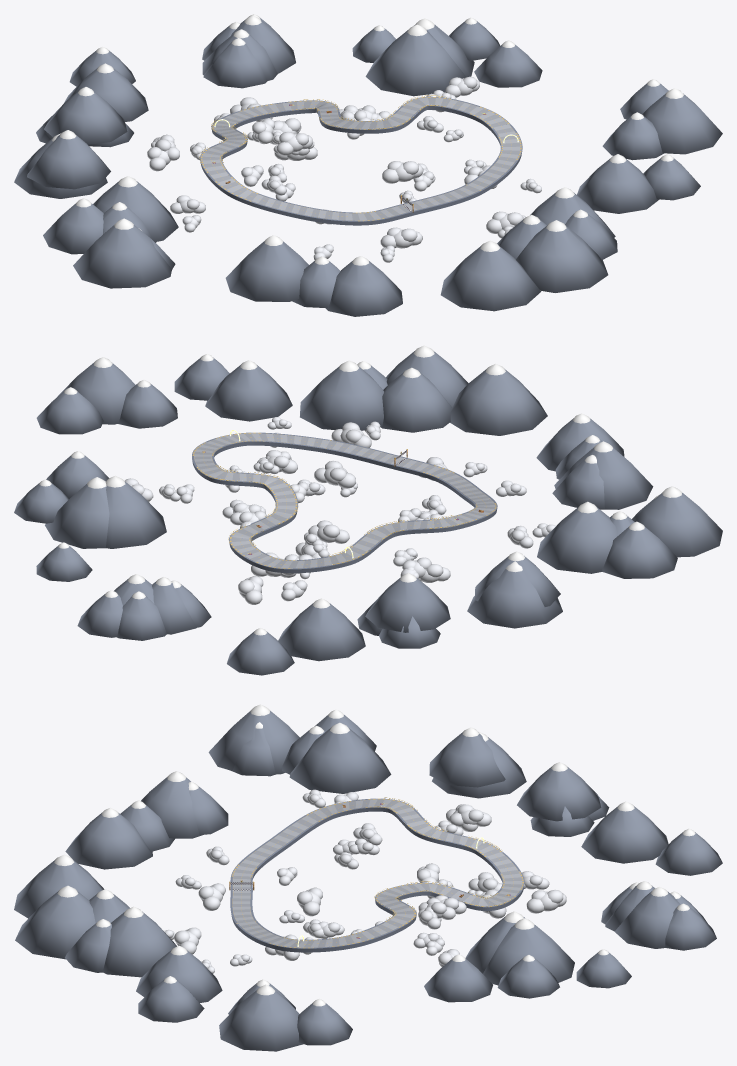
The model's file is carreras_acantilado.glb.
3 renders of one model, top to bottom at view 1: azimuth 30°, elevation 25°; view 2: azimuth 150°, elevation 25°; view 3: azimuth 270°, elevation 25°, orthographic. The views are drawn at different scales.
Parts seen in each view (by area): view 1: acantilado Laca | montana #8f98a9 0 0, acantilado Laca | montana #8f98a9 -1 -1, acantilado Laca | montana #8f98a9 0 -1, acantilado Laca | montana #8f98a9 -1 0, acantilado Laca | montana #8f98a9 -2 -1, acantilado Laca | montana #8f98a9 -1 -2, acantilado Laca | montana #8f98a9 0 -2, acantilado Laca | montana #8f98a9 1 -1, acantilado Tela | nube #F2F4FA -1 0, acantilado Tela | nube #F2F4FA 0 -1, acantilado Tela | nube #F2F4FA -1 -1, acantilado Tela | nube #F2F4FA 0 0 (+19 smaller); view 2: acantilado Laca | montana #8f98a9 0 -1, acantilado Laca | montana #8f98a9 -1 0, acantilado Laca | montana #8f98a9 0 0, acantilado Laca | montana #8f98a9 -1 -1, acantilado Laca | montana #8f98a9 -2 -1, acantilado Laca | montana #8f98a9 -1 -2, acantilado Laca | montana #8f98a9 1 -1, acantilado Tela | nube #F2F4FA -1 0, acantilado Laca | montana #8f98a9 0 1, acantilado Tela | nube #F2F4FA 0 -1, acantilado Tela | nube #F2F4FA -1 -1, acantilado Laca | montana #8f98a9 -1 1 (+18 smaller); view 3: acantilado Laca | montana #8f98a9 -1 -1, acantilado Laca | montana #8f98a9 -1 0, acantilado Laca | montana #8f98a9 0 0, acantilado Laca | montana #8f98a9 0 -1, acantilado Laca | montana #8f98a9 1 -1, acantilado Laca | montana #8f98a9 -2 -1, acantilado Laca | montana #8f98a9 0 1, acantilado Tela | nube #F2F4FA -1 0, acantilado Laca | montana #8f98a9 0 -2, acantilado Tela | nube #F2F4FA -1 -1, acantilado Tela | nube #F2F4FA 0 -1, acantilado Laca | montana #8f98a9 -1 -2 (+16 smaller).
Part boxes in pixels (x1,y1,x2,y2): acantilado Laca | montana #8f98a9 0 0: (202,21,542,96); acantilado Laca | montana #8f98a9 -1 -1: (93,181,402,316); acantilado Laca | montana #8f98a9 0 -1: (497,116,700,259); acantilado Laca | montana #8f98a9 -1 0: (14,68,148,198); acantilado Laca | montana #8f98a9 -2 -1: (43,203,175,288); acantilado Laca | montana #8f98a9 -1 -2: (440,246,541,311); acantilado Laca | montana #8f98a9 0 -2: (516,225,608,292); acantilado Laca | montana #8f98a9 1 -1: (620,83,722,154); acantilado Tela | nube #F2F4FA -1 0: (147,97,317,186); acantilado Tela | nube #F2F4FA 0 -1: (382,129,541,238); acantilado Tela | nube #F2F4FA -1 -1: (170,164,422,262); acantilado Tela | nube #F2F4FA 0 0: (270,76,479,144); acantilado Laca | montana #8f98a9 0 -1: (118,357,452,432); acantilado Laca | montana #8f98a9 -1 0: (278,556,562,661); acantilado Laca | montana #8f98a9 0 0: (14,455,211,634); acantilado Laca | montana #8f98a9 -1 -1: (536,418,653,573); acantilado Laca | montana #8f98a9 -2 -1: (602,493,722,578); acantilado Laca | montana #8f98a9 -1 -2: (450,369,547,435); acantilado Laca | montana #8f98a9 1 -1: (36,363,135,434); acantilado Tela | nube #F2F4FA -1 0: (238,512,450,604); acantilado Laca | montana #8f98a9 0 1: (77,578,166,640); acantilado Tela | nube #F2F4FA 0 -1: (226,417,380,503); acantilado Tela | nube #F2F4FA -1 -1: (398,457,555,548); acantilado Laca | montana #8f98a9 -1 1: (227,631,294,675); acantilado Laca | montana #8f98a9 -1 -1: (65,728,391,869); acantilado Laca | montana #8f98a9 -1 0: (429,732,668,863); acantilado Laca | montana #8f98a9 0 0: (424,885,654,1002); acantilado Laca | montana #8f98a9 0 -1: (65,894,295,1022); acantilado Laca | montana #8f98a9 1 -1: (219,990,352,1051); acantilado Laca | montana #8f98a9 -2 -1: (208,711,376,776); acantilado Laca | montana #8f98a9 0 1: (614,891,716,950); acantilado Tela | nube #F2F4FA -1 0: (353,804,566,913); acantilado Laca | montana #8f98a9 0 -2: (15,891,95,959); acantilado Tela | nube #F2F4FA -1 -1: (175,789,379,910); acantilado Tela | nube #F2F4FA 0 -1: (163,887,362,973); acantilado Laca | montana #8f98a9 -1 -2: (14,860,104,918).
Bounding box in the file's own units: 662 × 75.72 × 629.
